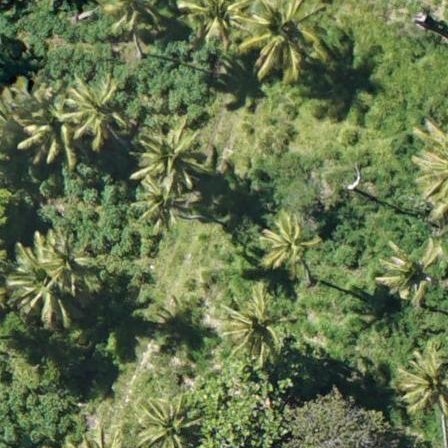palm_tree: (17, 235, 95, 318), (241, 1, 323, 70), (58, 68, 129, 143), (254, 206, 323, 279), (379, 239, 446, 309), (134, 389, 202, 448), (399, 345, 448, 419), (137, 132, 199, 189)
